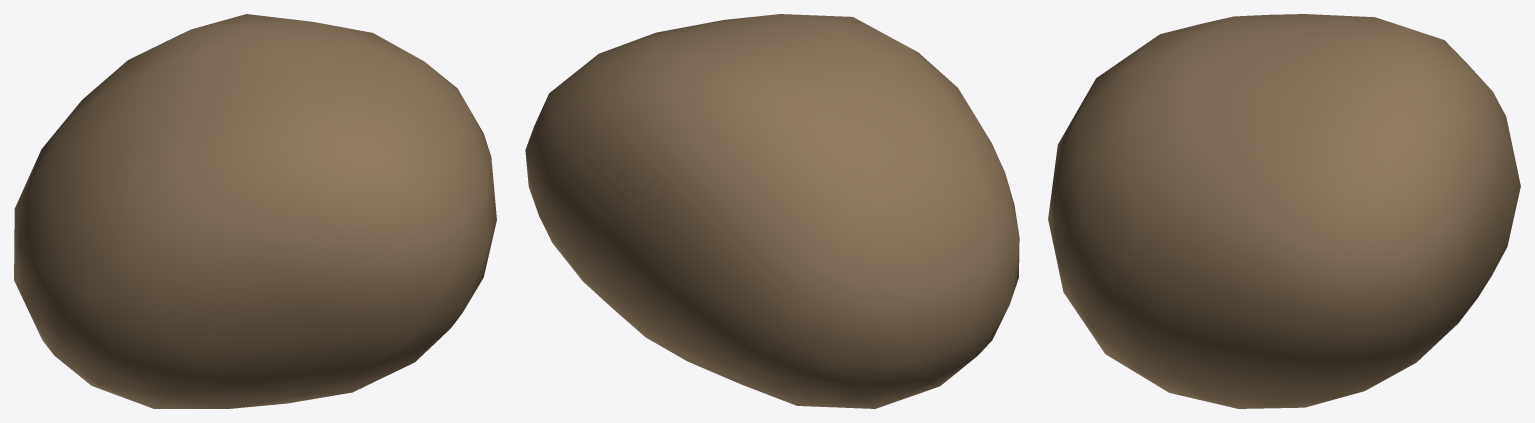
File: rock.glb
3 renders of one model, left to right at view 1: azimuth 30°, elevation 25°; view 2: azimuth 150°, elevation 25°; view 3: azimuth 270°, elevation 25°, orthographic. The views are drawn at different scales.
Parts seen in each view (by area): view 1: r; view 2: r; view 3: r.
Boxes of the visible parts, bbox=[...] form: r: bbox=[14, 14, 496, 408]; r: bbox=[525, 14, 1019, 408]; r: bbox=[1048, 14, 1520, 408].
Size of the model in its own units: 1.25 by 0.8855 by 1.08.
